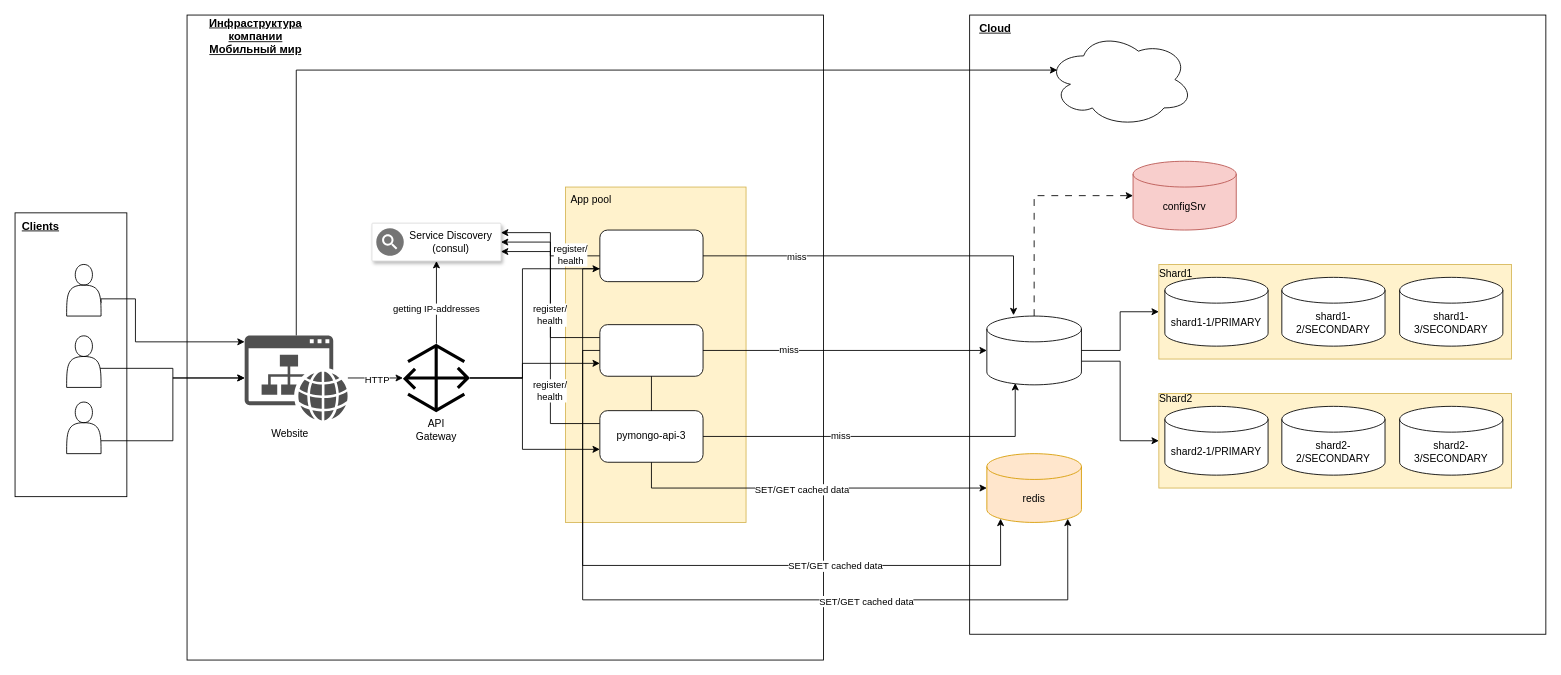
Some shapes in this 1561 by 675 pixel diagram are drawn without their labels. Each missing label, with the centre of its shape:
"CDN" belongs at (x=1119, y=79).
"mongo-router" belongs at (x=1033, y=350).
"pymongo-api-1" belongs at (x=651, y=255).
"pymongo-api-2" belongs at (x=651, y=350).
